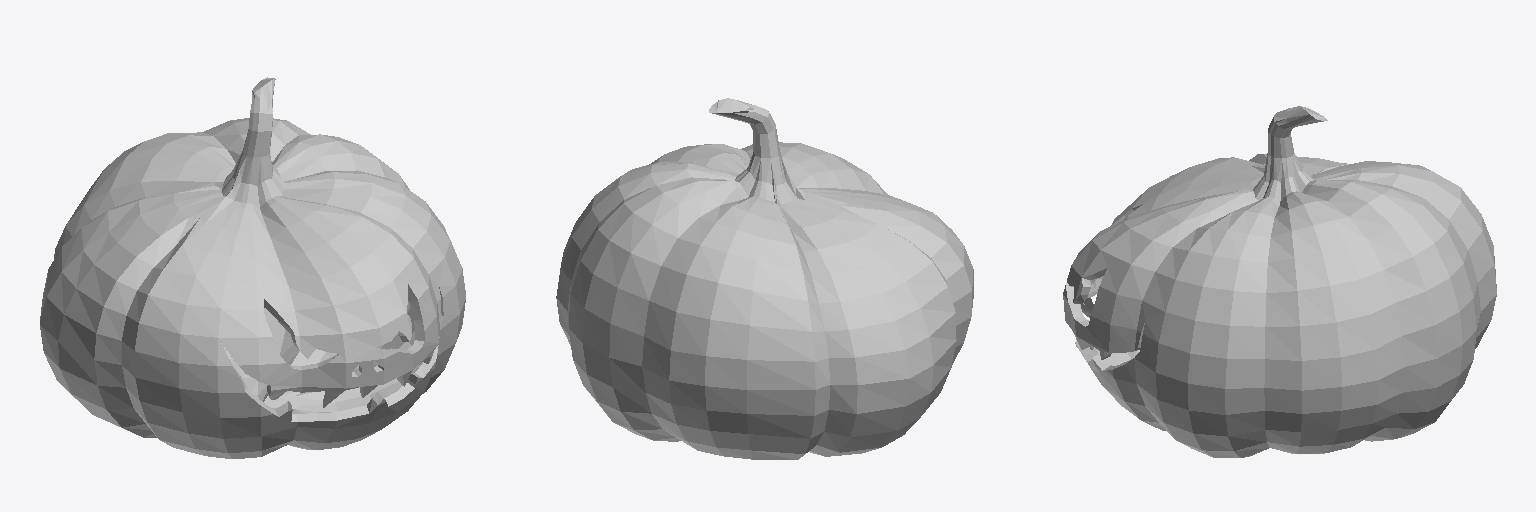
Rendered from pumpkin.obj.
The picture shows the model from 3 angles: view 1: azimuth 30°, elevation 25°; view 2: azimuth 150°, elevation 25°; view 3: azimuth 270°, elevation 25°; orthographic projection.
Parts seen in each view (by area): view 1: headusOBJexport; view 2: headusOBJexport; view 3: headusOBJexport.
Part boxes in pixels (x1,y1,x2,y2): headusOBJexport: (40, 77, 465, 458); headusOBJexport: (556, 98, 973, 459); headusOBJexport: (1063, 106, 1496, 457).
Size of the model in its own units: 20.26 by 17.04 by 20.95.